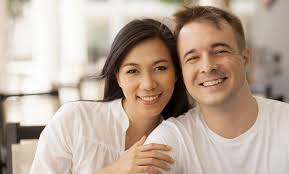asian_female: (104, 10, 181, 115)
